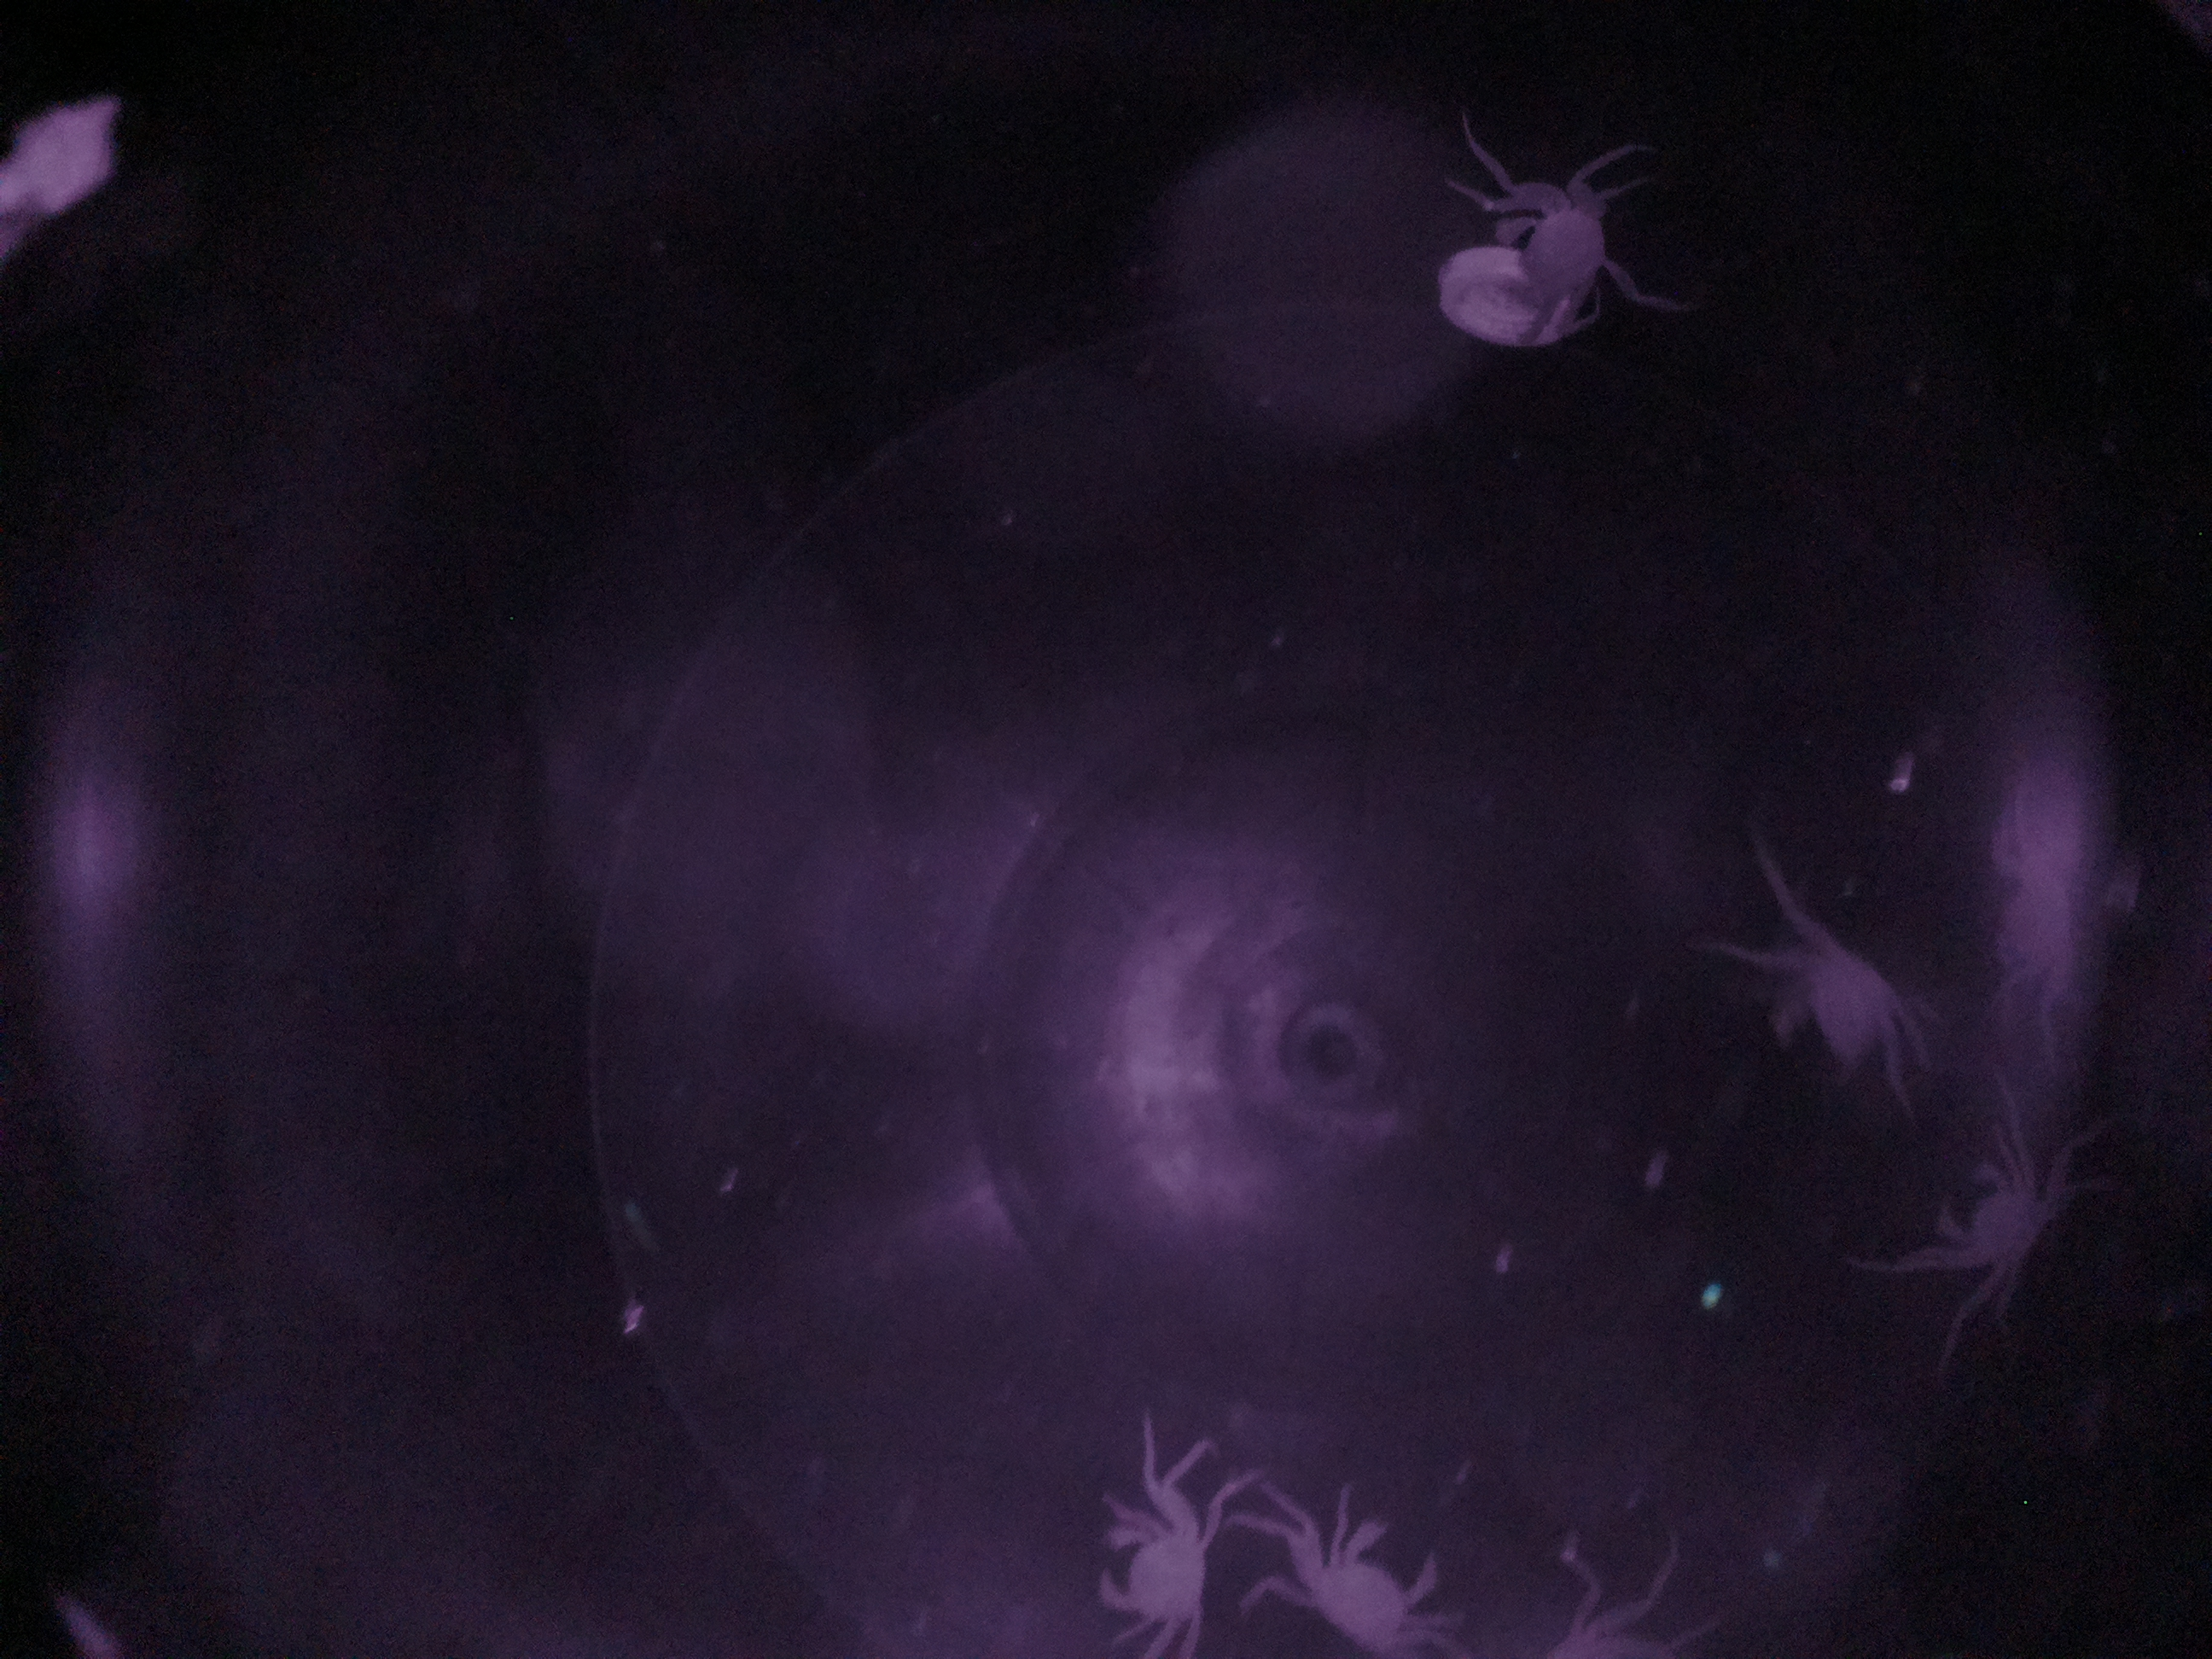Crab: (1254, 1495, 1470, 1654), (1078, 1464, 1221, 1659), (1914, 1150, 2071, 1307)
